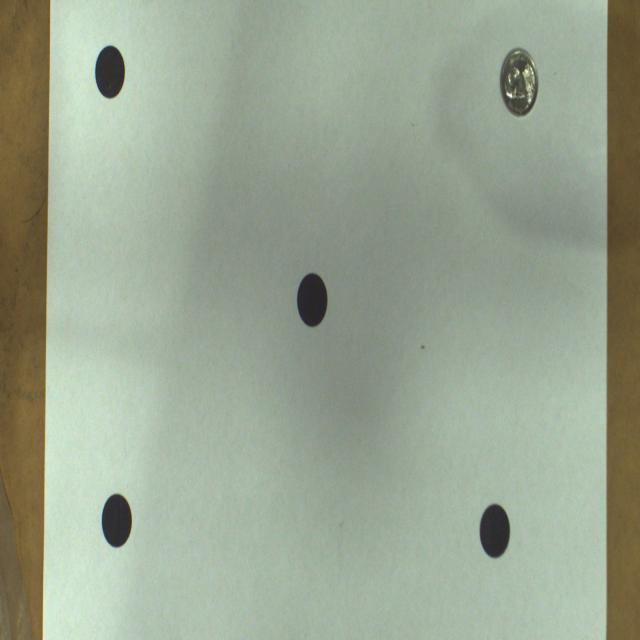head1bath: (500, 49, 538, 116)
space: (101, 493, 131, 548), (480, 504, 510, 558), (298, 273, 328, 327), (95, 47, 125, 98)
